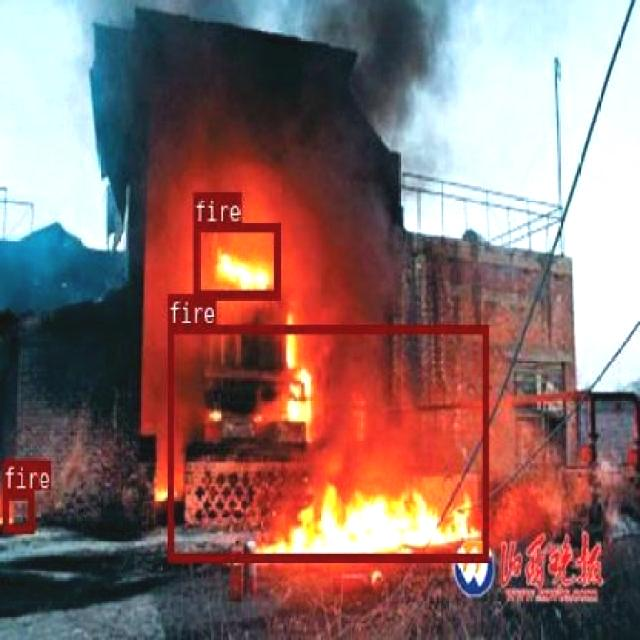fire: (167, 323, 487, 562), (192, 221, 278, 297), (2, 490, 33, 532)
